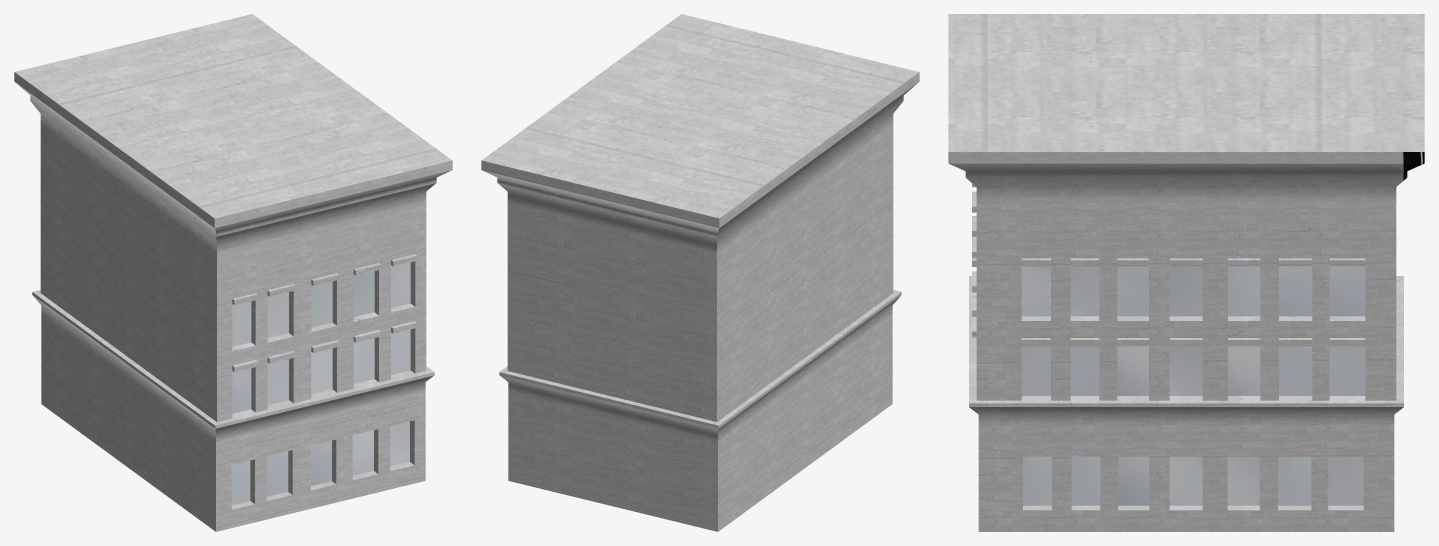
The model's file is building3.fbx.
3 renders of one model, left to right at view 1: azimuth 30°, elevation 25°; view 2: azimuth 150°, elevation 25°; view 3: azimuth 270°, elevation 25°, orthographic. The views are drawn at different scales.
Visible parts, largest first — view 1: building3; view 2: building3; view 3: building3.
Boxes of the visible parts, x1=… form: building3: x1=14, y1=14, x2=452, y2=531; building3: x1=481, y1=14, x2=919, y2=531; building3: x1=948, y1=14, x2=1424, y2=531.
Bounding box in the file's own units: 8.01 × 10.49 × 11.66.
1 material, 1 textured.
